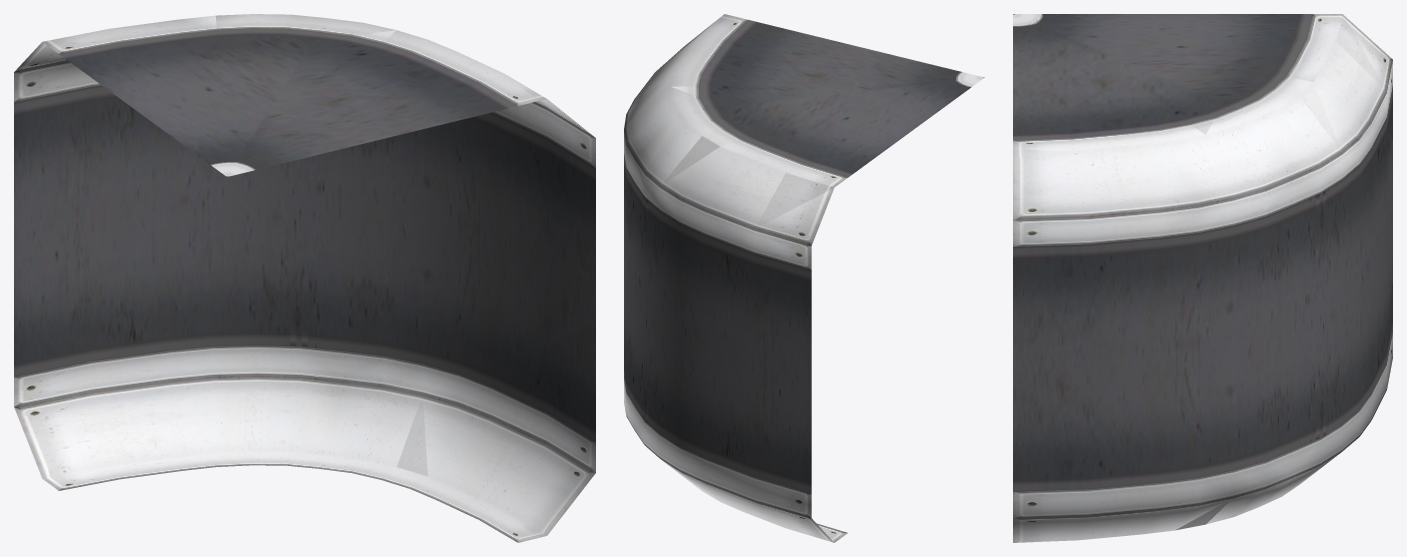
File: GroundTrimCap_corner.FBX
3 renders of one model, left to right at view 1: azimuth 30°, elevation 25°; view 2: azimuth 150°, elevation 25°; view 3: azimuth 270°, elevation 25°, orthographic. The views are drawn at different scales.
Visible parts, largest first — view 1: GroundTrimCap_corner; view 2: GroundTrimCap_corner; view 3: GroundTrimCap_corner.
Part boxes in pixels (bbox=[...]): GroundTrimCap_corner: bbox=[14, 14, 595, 542]; GroundTrimCap_corner: bbox=[624, 14, 984, 542]; GroundTrimCap_corner: bbox=[1013, 14, 1392, 542].
Bounding box in the file's own units: 1.15 × 1.3 × 1.15.
